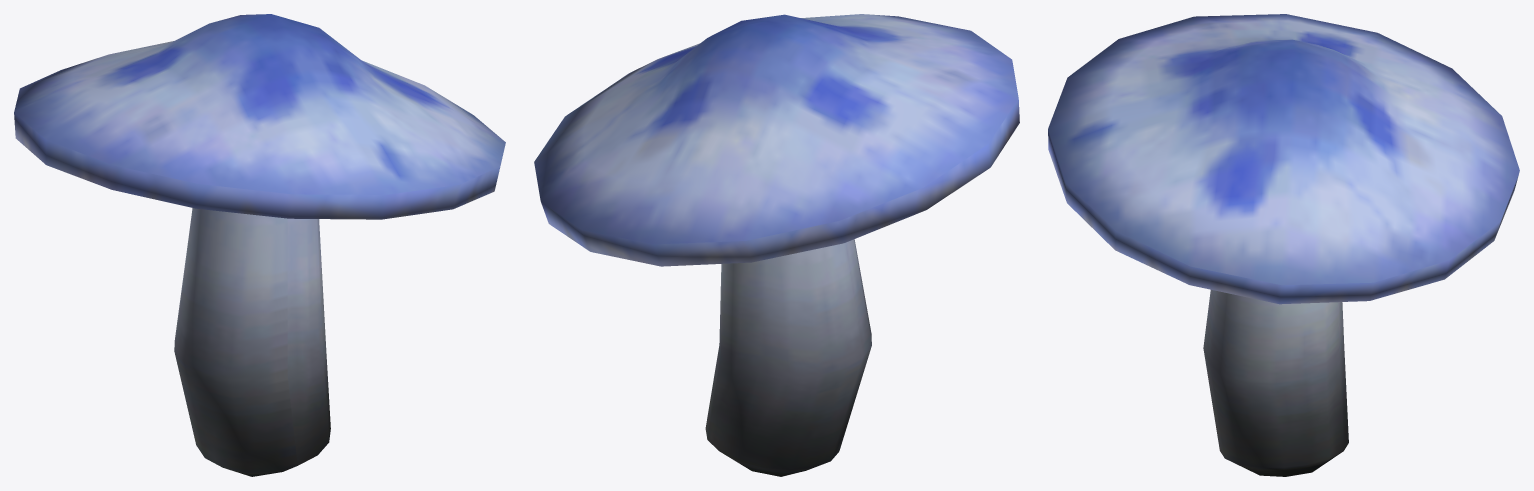
The model's file is INST_TROLLHOLE_SHROOMA3.fbx.
3 renders of one model, left to right at view 1: azimuth 30°, elevation 25°; view 2: azimuth 150°, elevation 25°; view 3: azimuth 270°, elevation 25°, orthographic. The views are drawn at different scales.
Parts seen in each view (by area): view 1: INST_TROLLHOLE_SHROOMA3; view 2: INST_TROLLHOLE_SHROOMA3; view 3: INST_TROLLHOLE_SHROOMA3.
Part boxes in pixels (x1,y1,x2,y2): INST_TROLLHOLE_SHROOMA3: [14, 14, 505, 476]; INST_TROLLHOLE_SHROOMA3: [534, 14, 1019, 476]; INST_TROLLHOLE_SHROOMA3: [1048, 14, 1519, 476].
Size of the model in its own units: 18728 by 18488 by 18852.
1 material, 1 textured.
